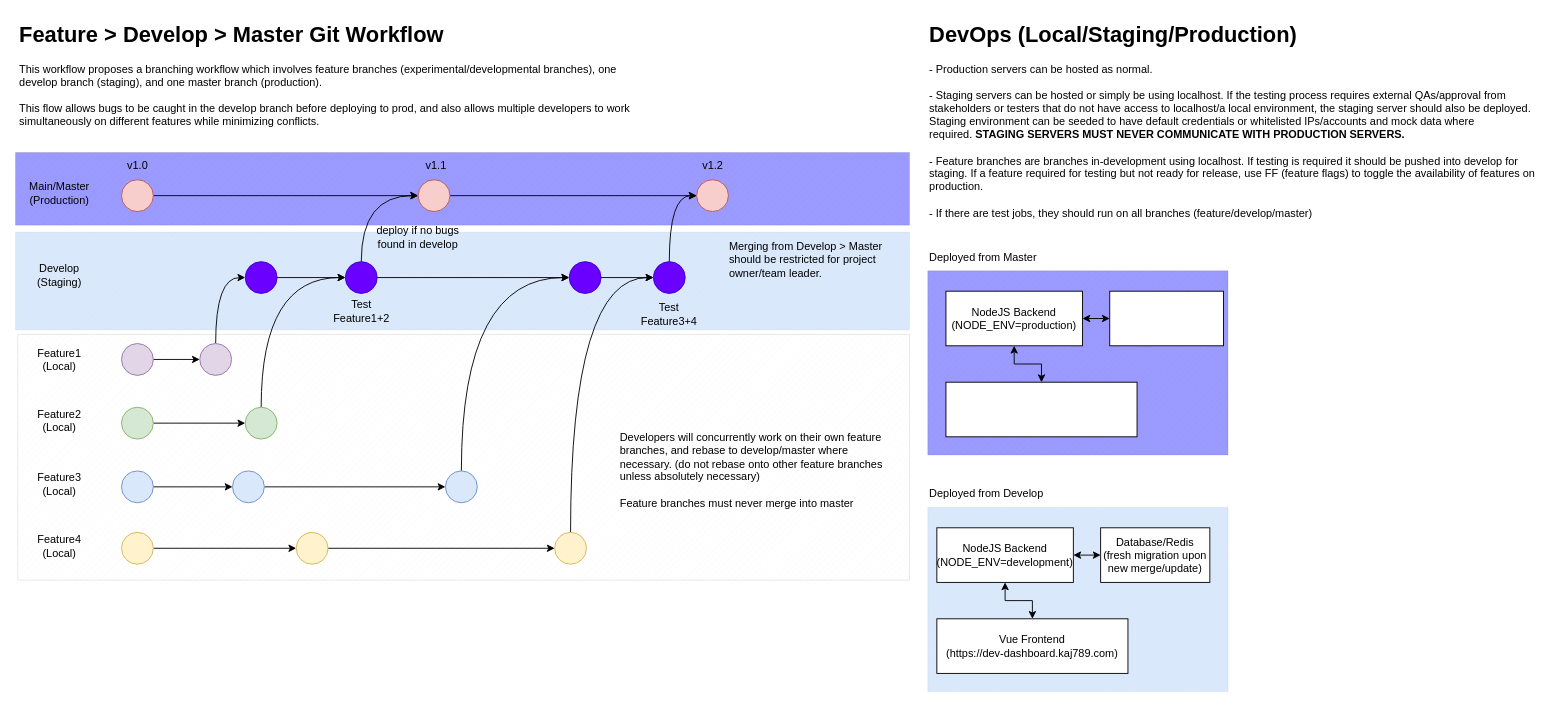
Some shapes in this 1557 by 707 pixel diagram are drawn without their labels. The box of each missing label's shape, as (x1, y1, x2, y2) in pixels:
Database (Production- never deleted. Use migrate/rollback): (1109, 290, 1223, 346)
Vue Frontend (https://dashboard.kaj789.com): (945, 381, 1137, 437)
